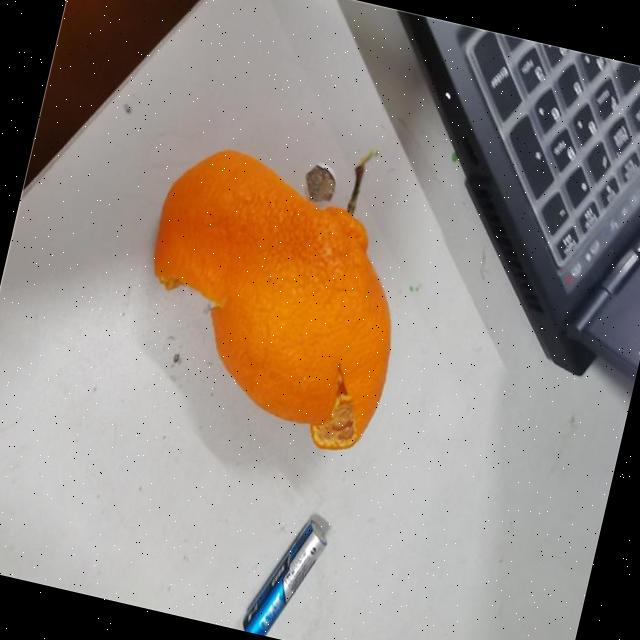orange-peel: (115, 132, 430, 459)
